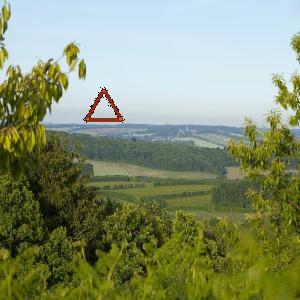triangle: (81, 85, 127, 126)
